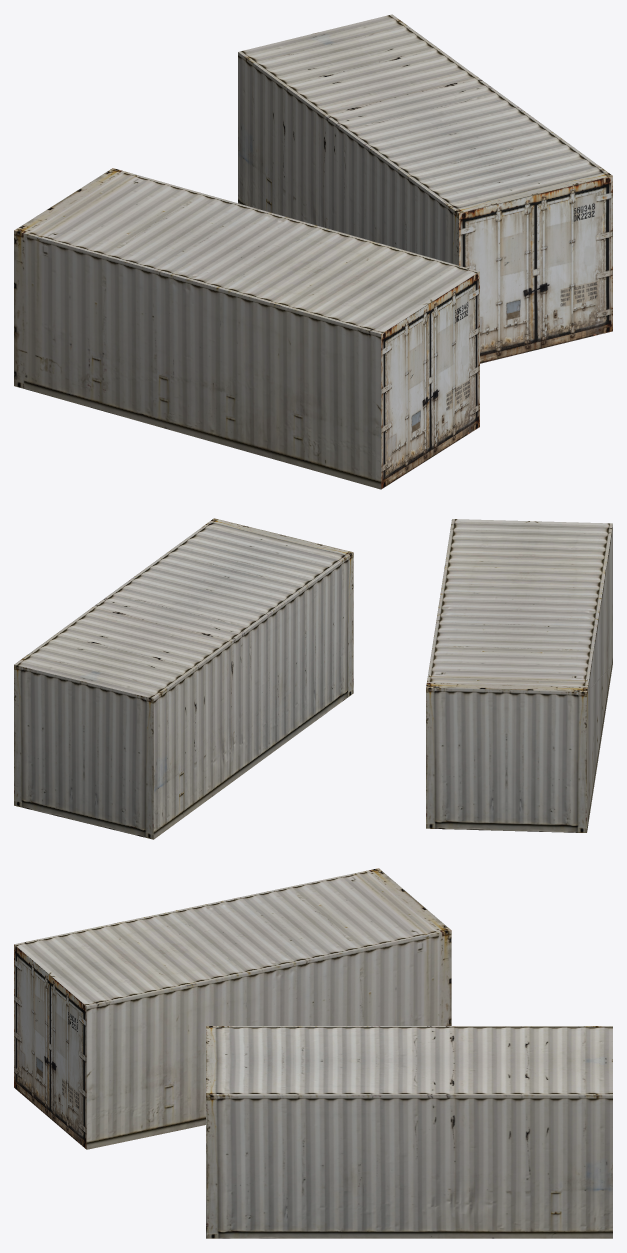
The picture shows the model from 3 angles, top to bottom: view 1: azimuth 30°, elevation 25°; view 2: azimuth 150°, elevation 25°; view 3: azimuth 270°, elevation 25°; orthographic projection. The views are drawn at different scales.
Parts seen in each view (by area): view 1: ContainerLow, ContainerLow.001; view 2: ContainerLow.001, ContainerLow; view 3: ContainerLow.001, ContainerLow.
Boxes of the visible parts, x1,y1,x2,y2 form: ContainerLow: (14, 168, 479, 489); ContainerLow.001: (238, 14, 612, 363); ContainerLow.001: (14, 518, 353, 839); ContainerLow: (426, 519, 612, 832); ContainerLow.001: (206, 1026, 612, 1238); ContainerLow: (14, 868, 451, 1149).
Size of the model in its own units: 7.99 by 2.35 by 8.9.
Materials: 1 (1 with a texture image).
